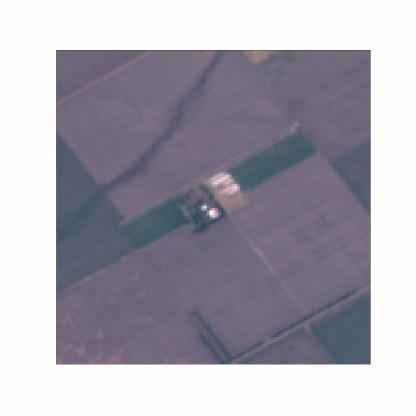silobolsa: (212, 170, 238, 206)
